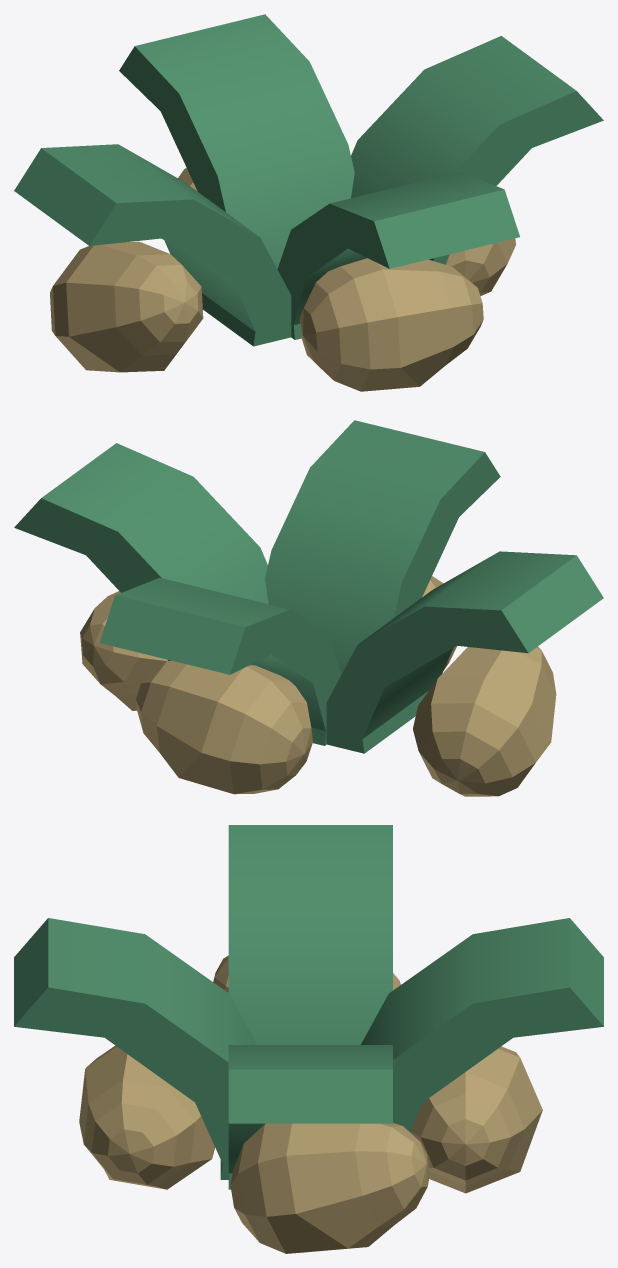
The model's file is Potato_Plant.fbx.
3 views of the same model, one above another, from view 1: azimuth 30°, elevation 25°; view 2: azimuth 150°, elevation 25°; view 3: azimuth 270°, elevation 25° (orthographic). The views are drawn at different scales.
Parts seen in each view (by area): view 1: Potato_Plant; view 2: Potato_Plant; view 3: Potato_Plant.
Boxes of the visible parts, x1,y1,x2,y2 form: Potato_Plant: [14, 14, 603, 391]; Potato_Plant: [14, 420, 603, 796]; Potato_Plant: [14, 825, 603, 1253].
Bounding box in the file's own units: 15.81 × 6.26 × 14.41.
